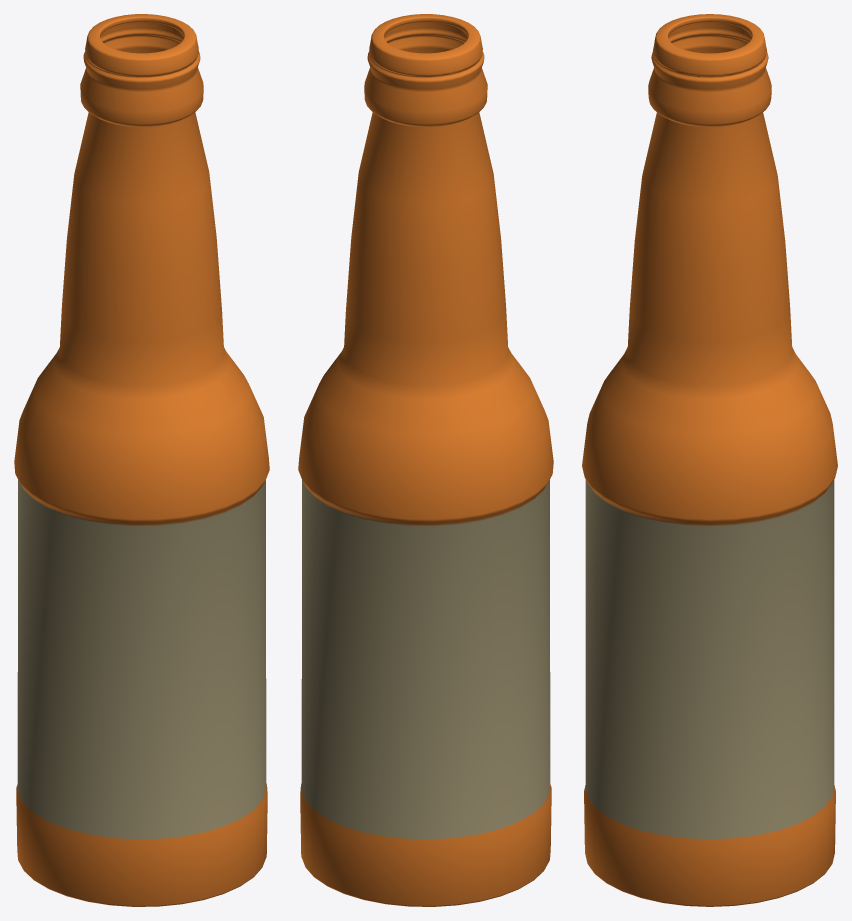
The model's file is bira.fbx.
The picture shows the model from 3 angles, left to right: view 1: azimuth 30°, elevation 25°; view 2: azimuth 150°, elevation 25°; view 3: azimuth 270°, elevation 25°; orthographic projection.
Visible parts, largest first — view 1: Circle; view 2: Circle; view 3: Circle.
Boxes of the visible parts, left/top/right/bottom form: Circle: left=14, top=14, right=269, bottom=906; Circle: left=298, top=14, right=553, bottom=906; Circle: left=582, top=14, right=837, bottom=906.
Bounding box in the file's own units: 132 × 474 × 132.
